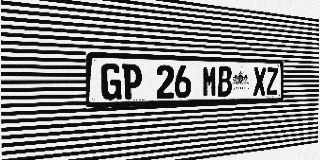2: (156, 65, 174, 99)
6: (174, 65, 191, 98)
B: (218, 66, 232, 97)
G: (101, 63, 122, 100)
M: (202, 66, 217, 97)
P: (122, 64, 142, 100)
X: (253, 67, 266, 96)
Z: (266, 67, 278, 95)
